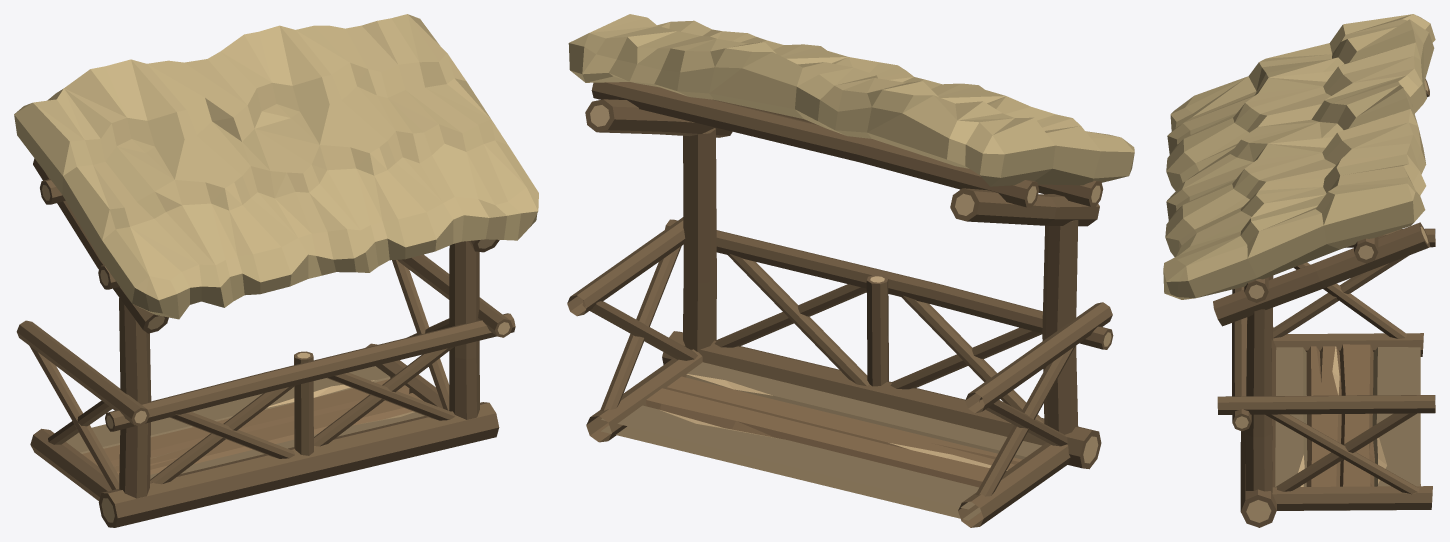
The model's file is rpgpp_st_balcony_01_4m_roof_b.fbx.
3 renders of one model, left to right at view 1: azimuth 30°, elevation 25°; view 2: azimuth 150°, elevation 25°; view 3: azimuth 270°, elevation 25°, orthographic. The views are drawn at different scales.
Visible parts, largest first — view 1: rpgpp_st_balcony_01_4m_roof_b; view 2: rpgpp_st_balcony_01_4m_roof_b; view 3: rpgpp_st_balcony_01_4m_roof_b.
Part boxes in pixels (left/top/right/bottom): rpgpp_st_balcony_01_4m_roof_b: left=14, top=14, right=538, bottom=527; rpgpp_st_balcony_01_4m_roof_b: left=567, top=14, right=1134, bottom=527; rpgpp_st_balcony_01_4m_roof_b: left=1163, top=14, right=1435, bottom=527.
Bounding box in the file's own units: 4.81 × 4.43 × 3.01.
